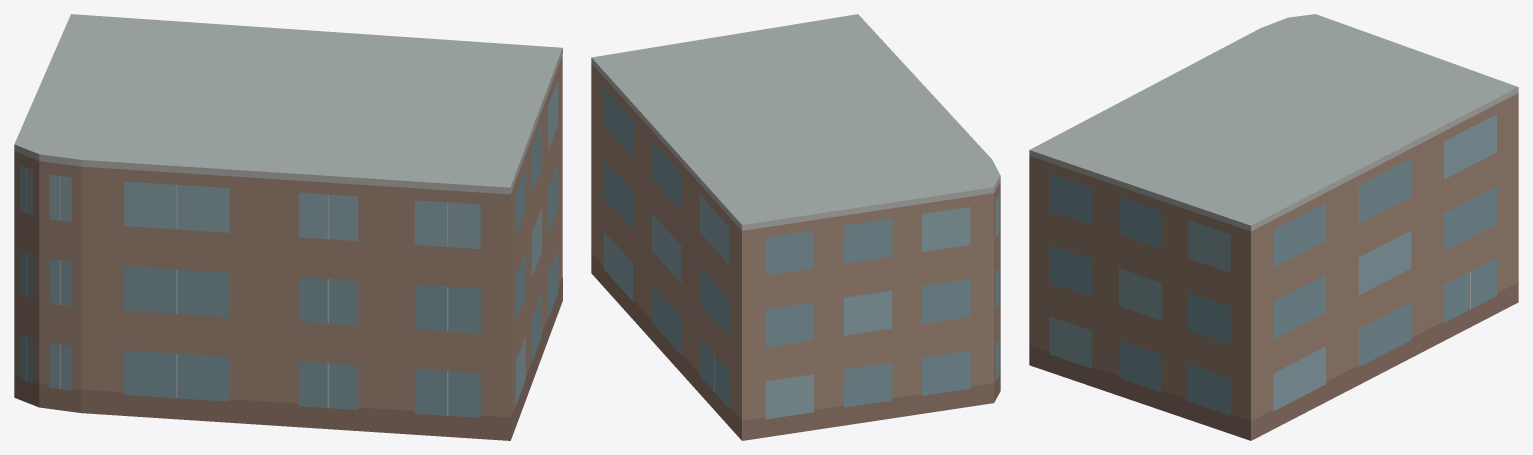
The model's file is survey-upis-32890322.glb.
3 renders of one model, left to right at view 1: azimuth 30°, elevation 25°; view 2: azimuth 150°, elevation 25°; view 3: azimuth 270°, elevation 25°, orthographic. The views are drawn at different scales.
Visible parts, largest first — view 1: survey-upis-32890322.tmp; view 2: survey-upis-32890322.tmp; view 3: survey-upis-32890322.tmp.
Part boxes in pixels (x1,y1,x2,y2): survey-upis-32890322.tmp: (14, 14, 562, 440); survey-upis-32890322.tmp: (591, 14, 1000, 440); survey-upis-32890322.tmp: (1029, 14, 1518, 440).
Size of the model in its own units: 19.31 by 9.15 by 18.87.
